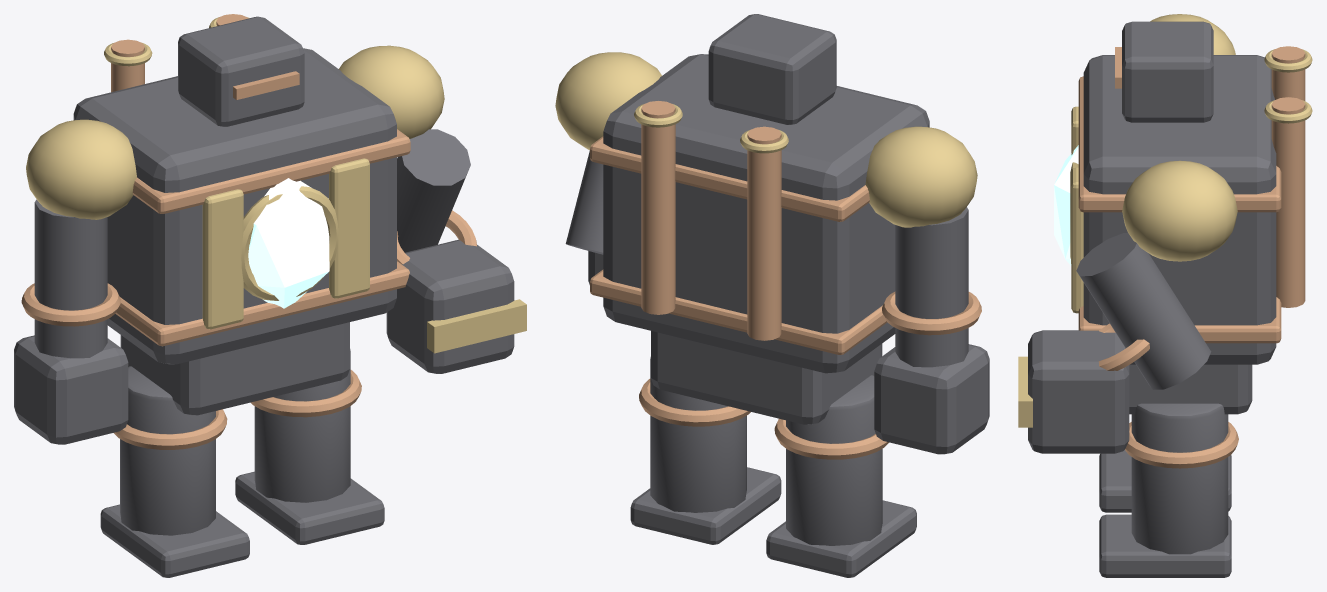
File: EnemyConstruto.fbx
3 renders of one model, left to right at view 1: azimuth 30°, elevation 25°; view 2: azimuth 150°, elevation 25°; view 3: azimuth 270°, elevation 25°, orthographic.
Parts seen in each view (by area): view 1: Corpo, Arma, Parte_BracoEsq, Parte_PernaEsq, Parte_PernaDir, Parte_Peitoral, Parte_Cabeca, Parte_OmbroEsq, Cristal, Parte_OmbroDir, Parte_Tubos; view 2: Corpo, Parte_BracoEsq, Parte_PernaEsq, Parte_PernaDir, Parte_Tubos, Parte_Cabeca, Parte_OmbroEsq, Parte_OmbroDir, Arma; view 3: Corpo, Arma, Parte_PernaDir, Parte_Cabeca, Parte_OmbroDir, Parte_Tubos, Parte_PernaEsq, Parte_Peitoral, Cristal, Parte_OmbroEsq.
Part boxes in pixels (left/top/right/bottom): Corpo: left=73, top=48, right=410, bottom=415; Arma: left=386, top=129, right=526, bottom=373; Parte_BracoEsq: left=14, top=199, right=128, bottom=444; Parte_PernaEsq: left=100, top=366, right=249, bottom=577; Parte_PernaDir: left=235, top=349, right=384, bottom=544; Parte_Peitoral: left=202, top=158, right=369, bottom=329; Parte_Cabeca: left=178, top=16, right=304, bottom=126; Parte_OmbroEsq: left=26, top=119, right=136, bottom=219; Cristal: left=248, top=178, right=329, bottom=308; Parte_OmbroDir: left=339, top=45, right=444, bottom=138; Parte_Tubos: left=104, top=14, right=249, bottom=92; Corpo: left=590, top=54, right=929, bottom=424; Parte_BracoEsq: left=874, top=207, right=989, bottom=454; Parte_PernaEsq: left=766, top=375, right=916, bottom=577; Parte_PernaDir: left=630, top=357, right=781, bottom=544; Parte_Tubos: left=634, top=101, right=788, bottom=340; Parte_Cabeca: left=708, top=14, right=836, bottom=124; Parte_OmbroEsq: left=865, top=126, right=977, bottom=227; Parte_OmbroDir: left=555, top=52, right=661, bottom=149; Arma: left=565, top=150, right=603, bottom=284; Corpo: left=1078, top=55, right=1281, bottom=414; Arma: left=1018, top=233, right=1211, bottom=453; Parte_PernaDir: left=1099, top=403, right=1238, bottom=577; Parte_Cabeca: left=1115, top=21, right=1213, bottom=122; Parte_OmbroDir: left=1122, top=160, right=1237, bottom=261; Parte_Tubos: left=1264, top=46, right=1312, bottom=307; Parte_PernaEsq: left=1099, top=450, right=1231, bottom=512; Parte_Peitoral: left=1070, top=106, right=1083, bottom=313; Cristal: left=1054, top=145, right=1078, bottom=265; Parte_OmbroEsq: left=1150, top=14, right=1235, bottom=54.
Size of the model in its own units: 1.98 by 2.23 by 1.22.
